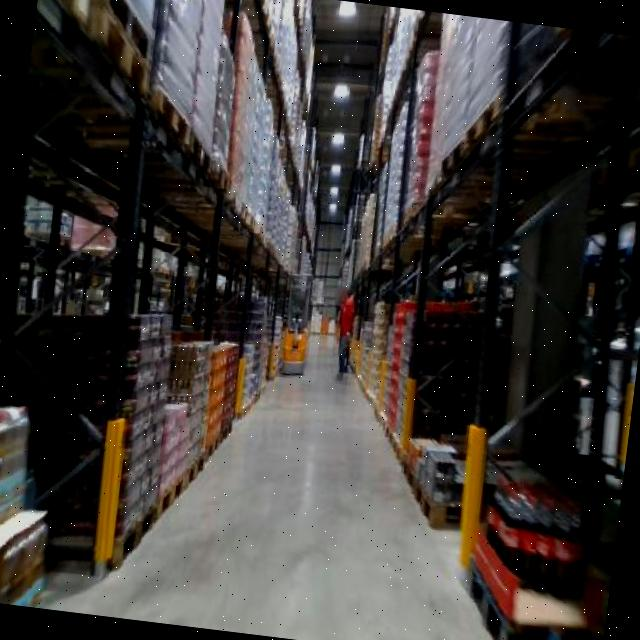pallet: (36, 480, 165, 588), (398, 472, 468, 537), (147, 462, 199, 526), (173, 442, 211, 501)
